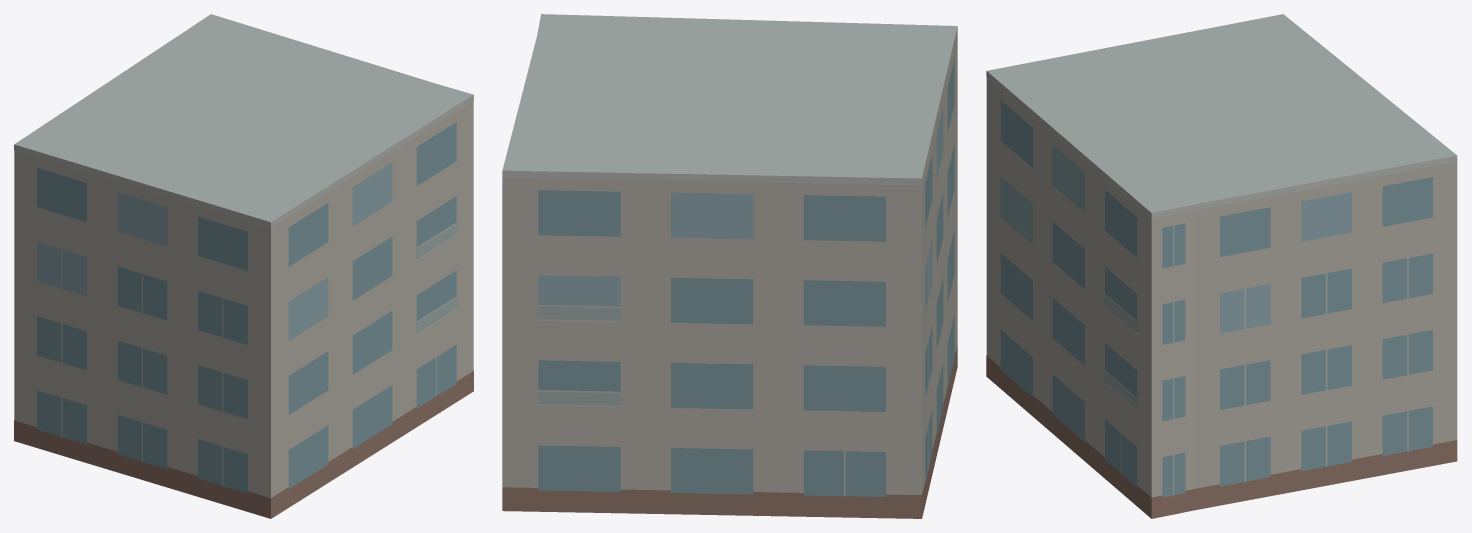
The model's file is survey-upis-32735164.glb.
3 views of the same model, side by side, from view 1: azimuth 30°, elevation 25°; view 2: azimuth 150°, elevation 25°; view 3: azimuth 270°, elevation 25° (orthographic). The views are drawn at different scales.
Parts seen in each view (by area): view 1: survey-upis-32735164.tmp; view 2: survey-upis-32735164.tmp; view 3: survey-upis-32735164.tmp.
Boxes of the visible parts, left/top/right/bottom form: survey-upis-32735164.tmp: left=14, top=14, right=473, bottom=518; survey-upis-32735164.tmp: left=502, top=14, right=957, bottom=518; survey-upis-32735164.tmp: left=986, top=14, right=1457, bottom=518.
Size of the model in its own units: 17.04 by 12.2 by 17.03.
